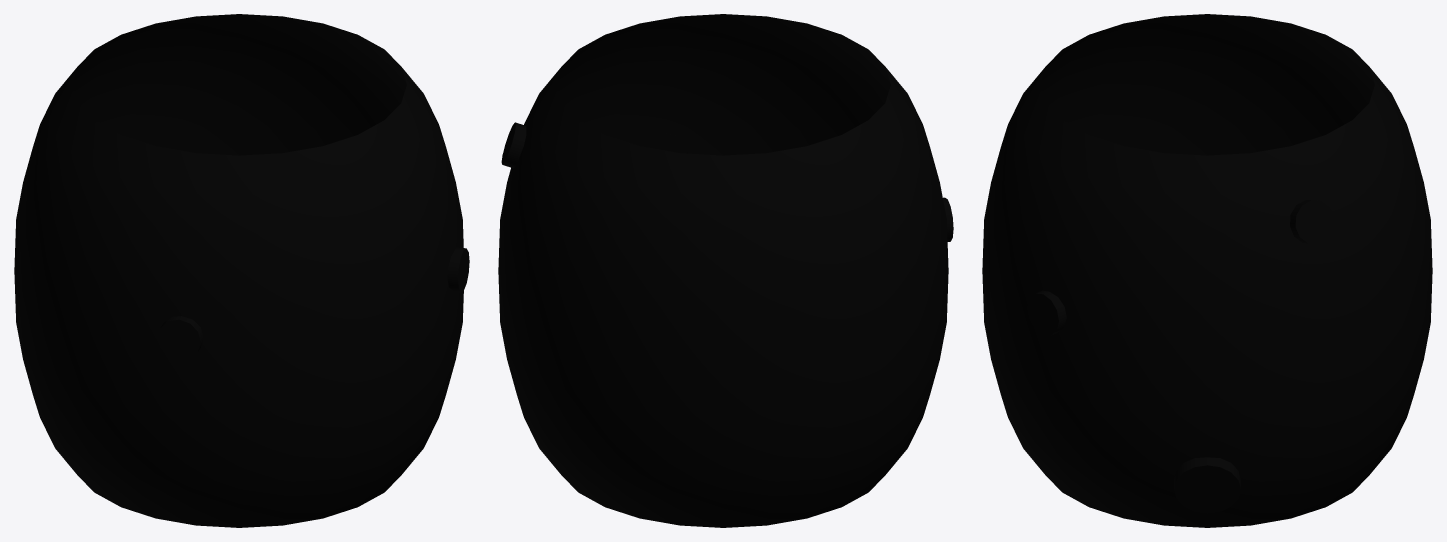
The model's file is hamal_orbital_module_s1_1_naked.obj.
3 renders of one model, left to right at view 1: azimuth 30°, elevation 25°; view 2: azimuth 150°, elevation 25°; view 3: azimuth 270°, elevation 25°, orthographic.
Visible parts, largest first — view 1: 1; view 2: 1; view 3: 1.
Part boxes in pixels (x1,y1,x2,y2): 1: [14, 14, 469, 527]; 1: [498, 14, 953, 527]; 1: [982, 14, 1432, 527].
Size of the model in its own units: 1.26 by 1.15 by 1.26.
1 material, 1 textured.
